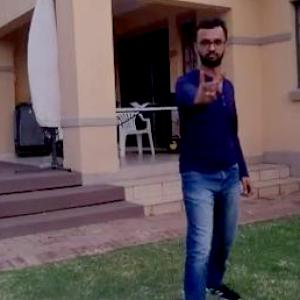takeoff-hand: (187, 62, 229, 108)
